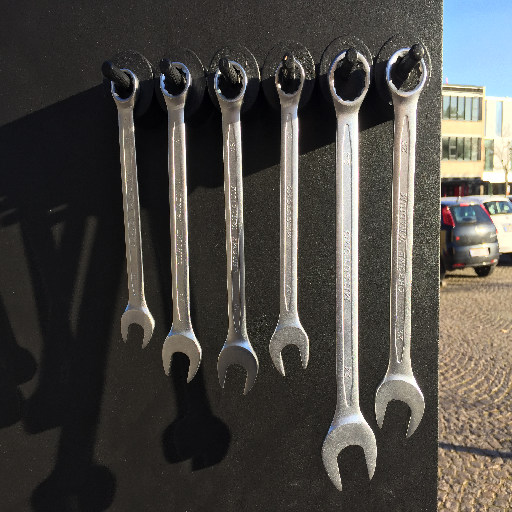bottom: (320, 421, 380, 494), (372, 372, 428, 440), (213, 341, 263, 399), (266, 324, 313, 379), (159, 329, 204, 386), (119, 305, 157, 351)
top: (326, 48, 372, 111), (382, 45, 429, 103), (212, 59, 250, 107), (157, 59, 195, 106), (272, 57, 308, 102), (107, 65, 144, 107)
